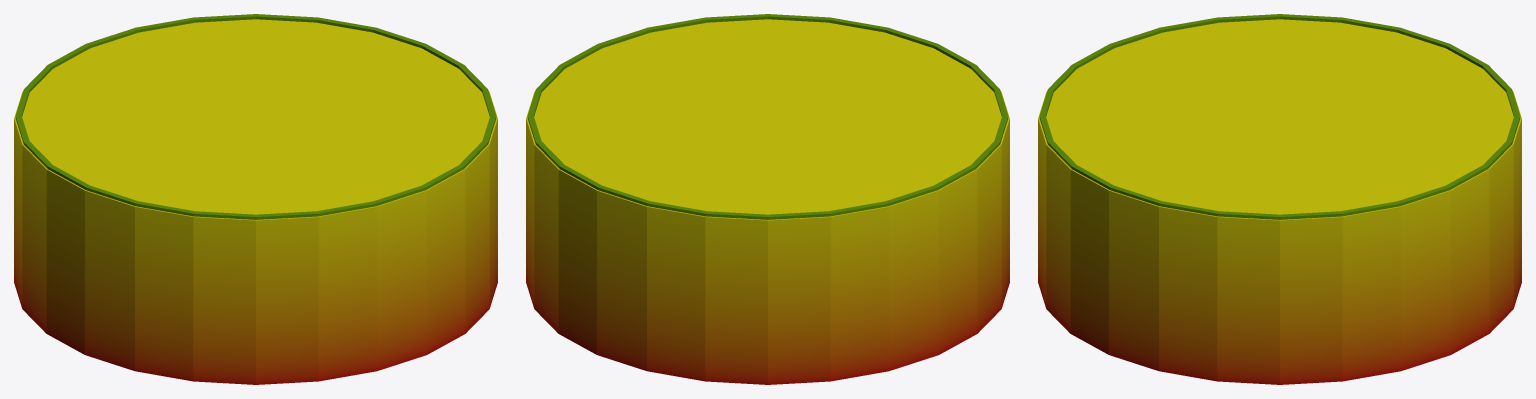
Rendered from tower_drum_broken.glb.
The picture shows the model from 3 angles, left to right: view 1: azimuth 30°, elevation 25°; view 2: azimuth 150°, elevation 25°; view 3: azimuth 270°, elevation 25°; orthographic projection.
Visible parts, largest first — view 1: tower_drum_broken; view 2: tower_drum_broken; view 3: tower_drum_broken.
Part boxes in pixels (x1,y1,x2,y2): tower_drum_broken: [14, 14, 497, 384]; tower_drum_broken: [526, 14, 1009, 384]; tower_drum_broken: [1038, 14, 1521, 384].
Size of what is drawn, in the model's own units: 6.4 by 2.44 by 6.4.
